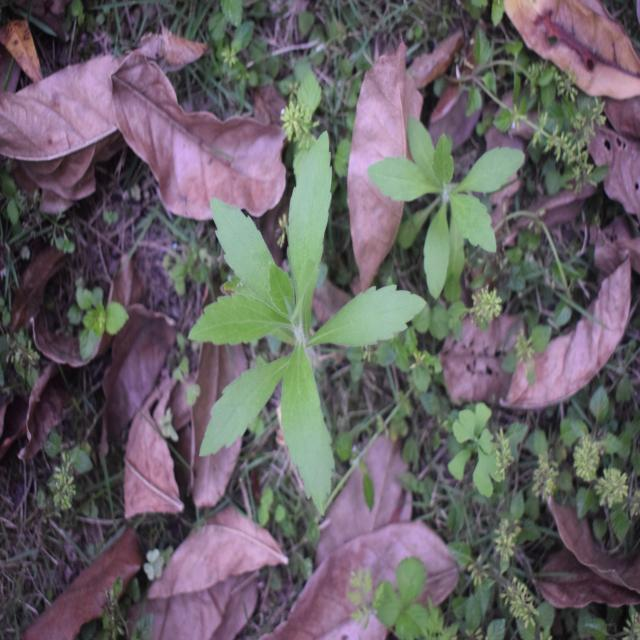horseweed: (176, 150, 415, 481), (386, 116, 520, 287)
